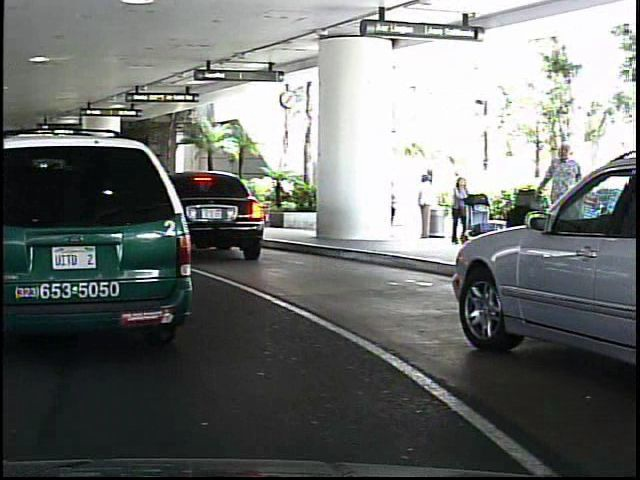person: (533, 133, 588, 281), (442, 171, 472, 247)
